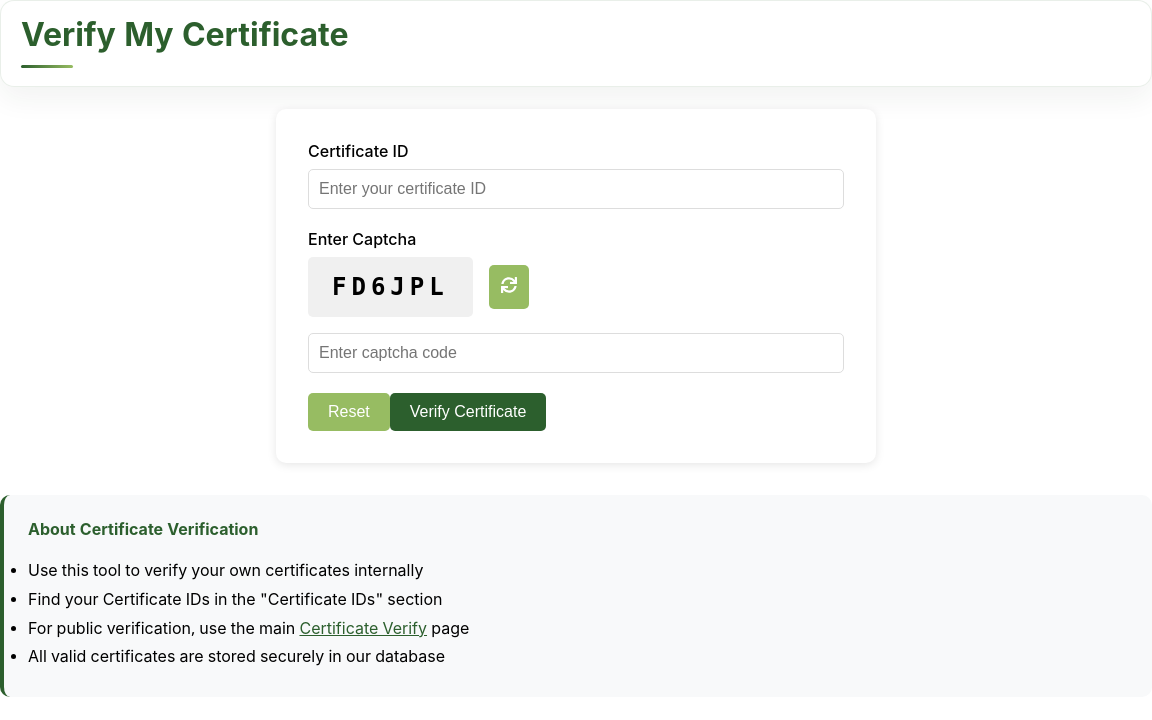
challenge load failure disables verification and refresh lets the student retry
Step 1. Click the button named "Refresh CAPTCHA" → (509, 287), box [489,265,529,309]
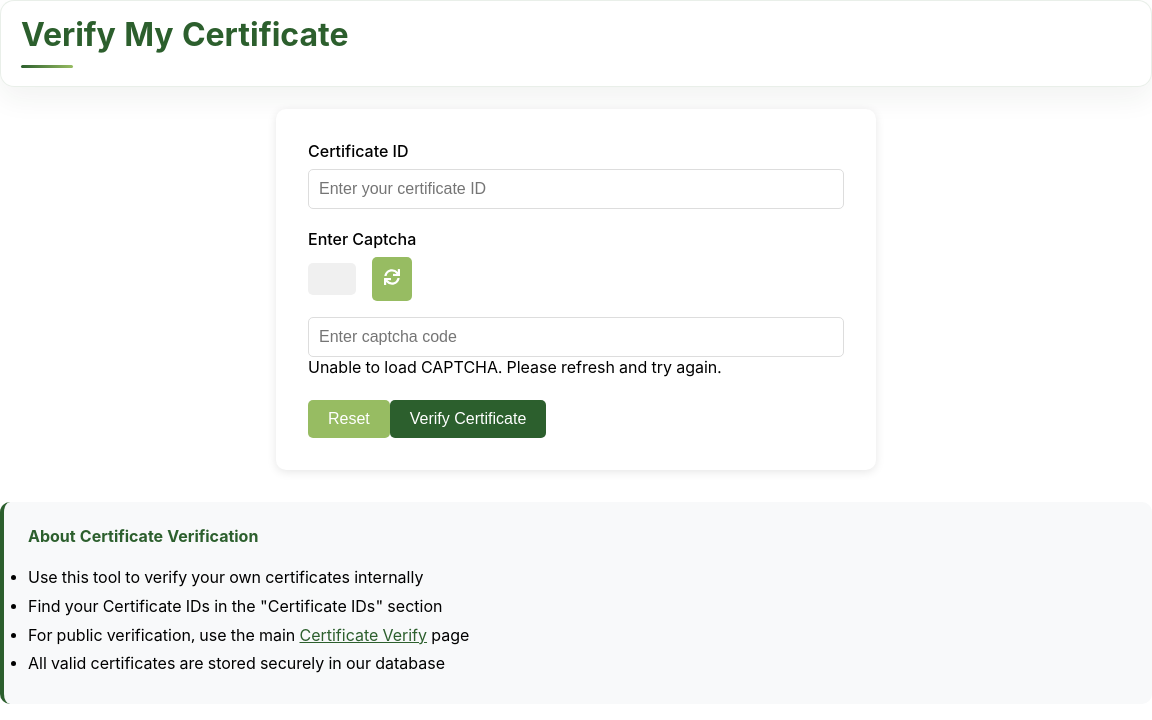
Expected: the message "Unable to load CAPTCHA. Please refresh and try again." is shown, [308,358,722,380]
Expected: the submit button is disabled, [390,400,546,438]
Step 2. Click the button named "Refresh CAPTCHA" → (392, 279), box [372,257,412,301]
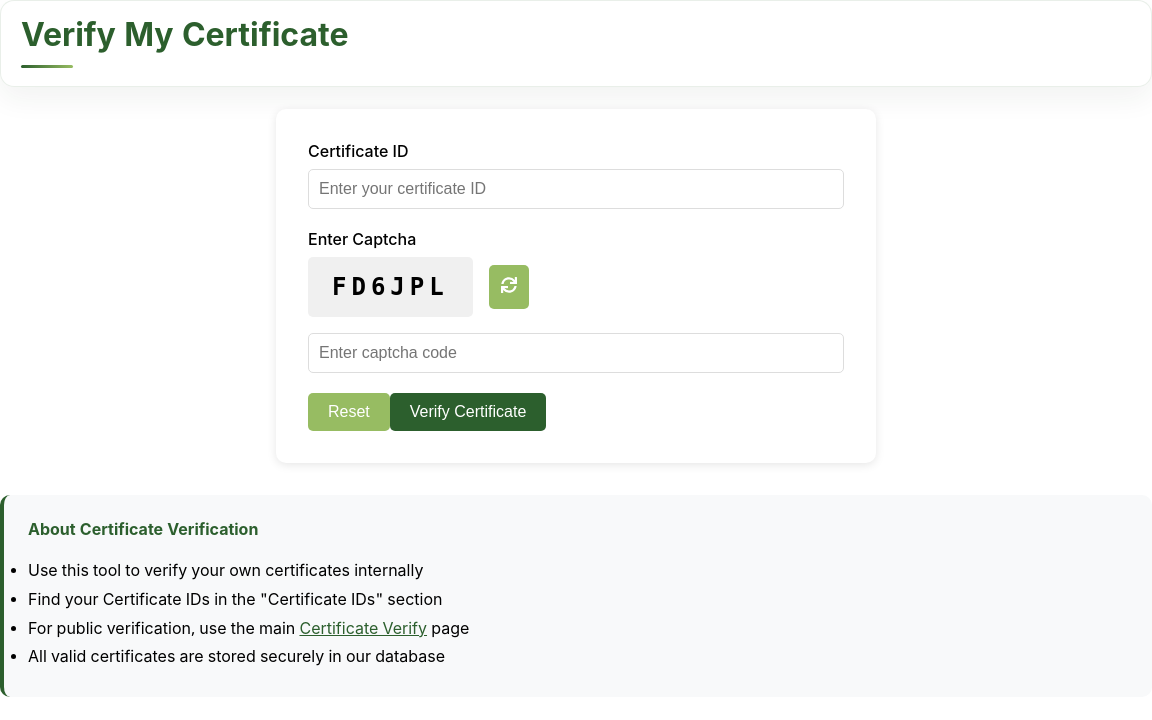
Expected: the submit button is enabled, [390,393,546,431]
Expected: the message "Unable to load CAPTCHA. Please refresh and try again." is gone
